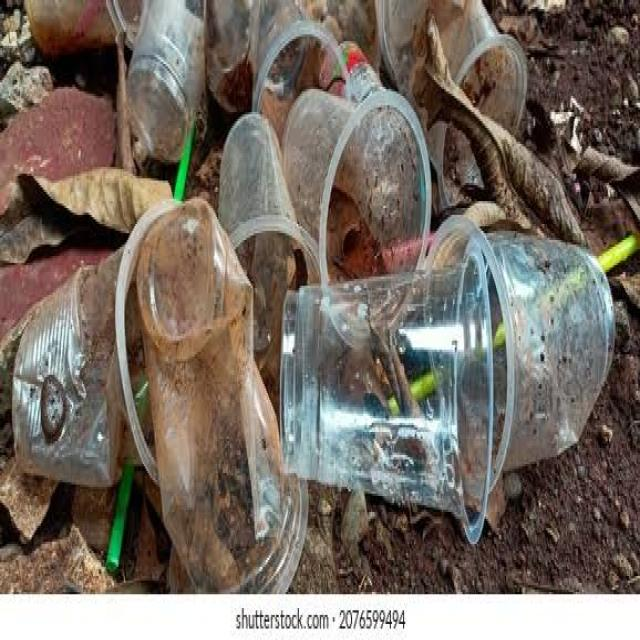plastic: (133, 200, 323, 592), (270, 252, 502, 562), (434, 174, 624, 509), (281, 74, 451, 329), (18, 230, 158, 505), (214, 99, 336, 340), (375, 0, 536, 179), (127, 0, 209, 159), (239, 0, 356, 107)
